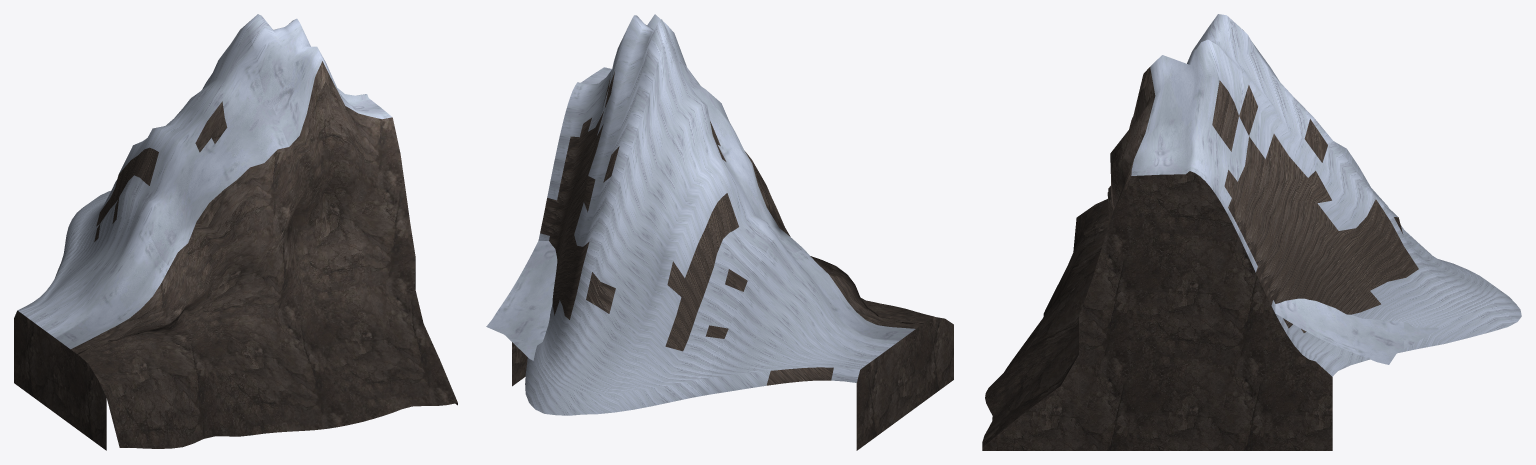
File: seacliff_endcap_left_h3_b_v5_winter.glb
3 views of the same model, side by side, from view 1: azimuth 30°, elevation 25°; view 2: azimuth 150°, elevation 25°; view 3: azimuth 270°, elevation 25° (orthographic). The views are drawn at different scales.
Parts seen in each view (by area): view 1: seacliff_endcap_left_h3_b; view 2: seacliff_endcap_left_h3_b; view 3: seacliff_endcap_left_h3_b.
Boxes of the visible parts, x1,y1,x2,y2 form: seacliff_endcap_left_h3_b: (14, 14, 457, 450); seacliff_endcap_left_h3_b: (486, 14, 953, 450); seacliff_endcap_left_h3_b: (982, 14, 1521, 450).
Bounding box in the file's own units: 6 × 6.25 × 7.92.
Materials: 2 (2 with a texture image).
